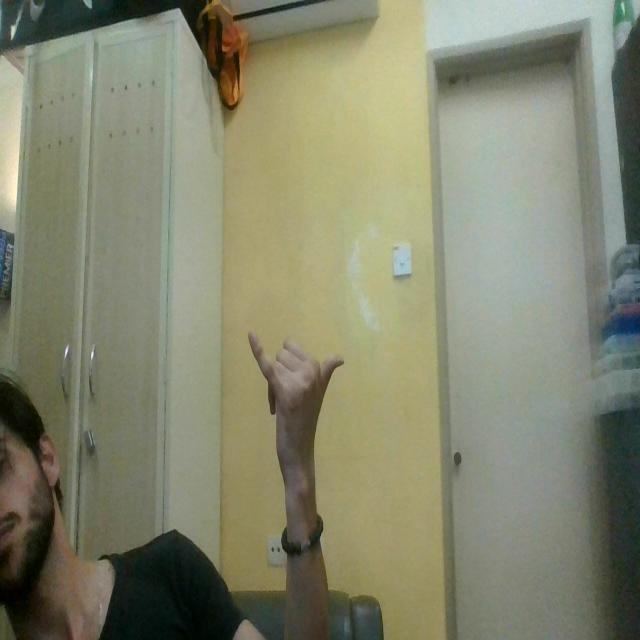shaka: (244, 314, 350, 497)
